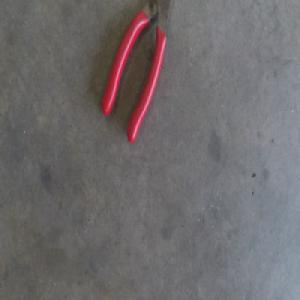Pliers: (101, 0, 172, 143)
